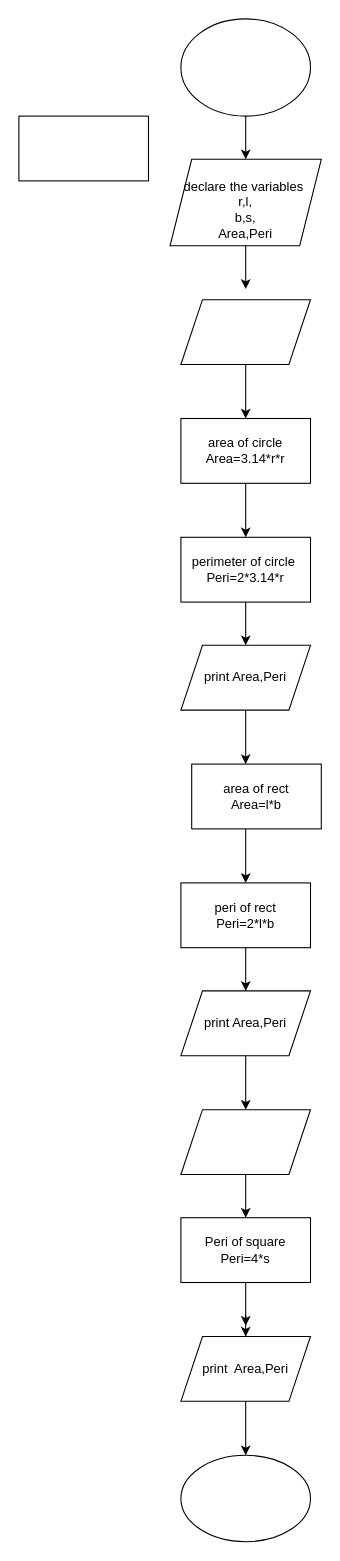
Some shapes in this 340 by 1561 pixel diagram are drawn without their labels. The centre of each missing label's shape, as x and y in pixels:
area of square Area=s*s: [245,1141]
input the above variables: [245,331]
start: [245,67]
stop: [245,1498]
